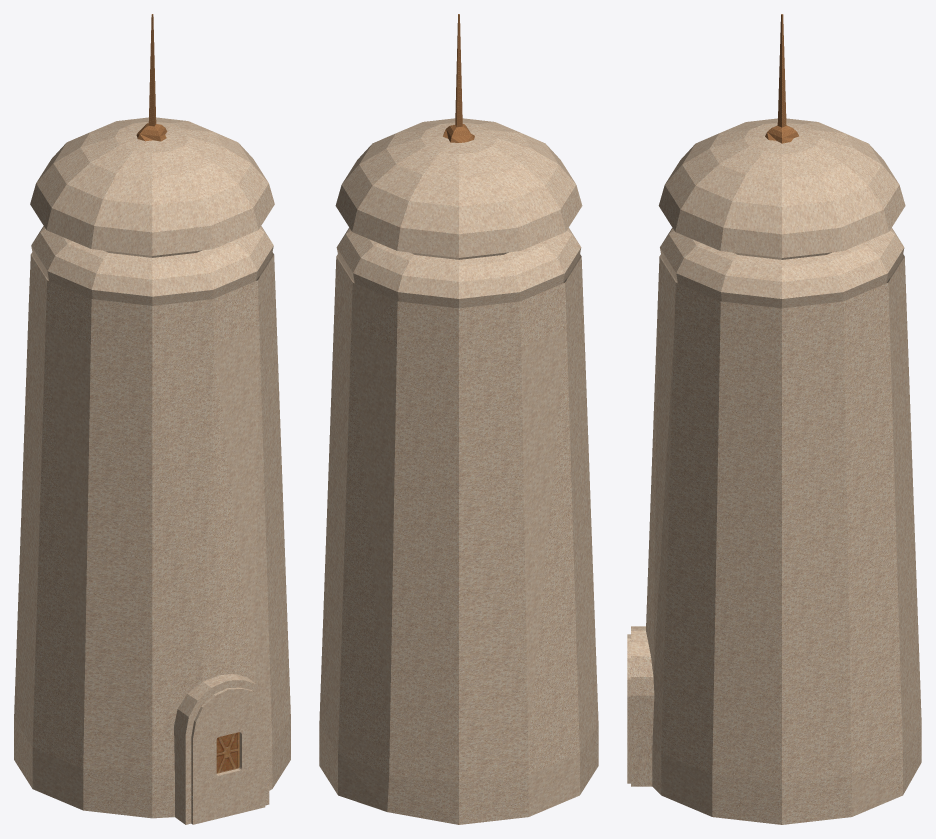
File: thm_tato_imprv_building_s06_l1.fbx
The picture shows the model from 3 angles, left to right: view 1: azimuth 30°, elevation 25°; view 2: azimuth 150°, elevation 25°; view 3: azimuth 270°, elevation 25°; orthographic projection.
Visible parts, largest first — view 1: mesh_node; view 2: mesh_node; view 3: mesh_node.
Part boxes in pixels (x1,y1,x2,y2): mesh_node: [14, 14, 290, 824]; mesh_node: [319, 14, 598, 824]; mesh_node: [627, 14, 921, 824].
Bounding box in the file's own units: 20.02 × 59.46 × 21.12.
